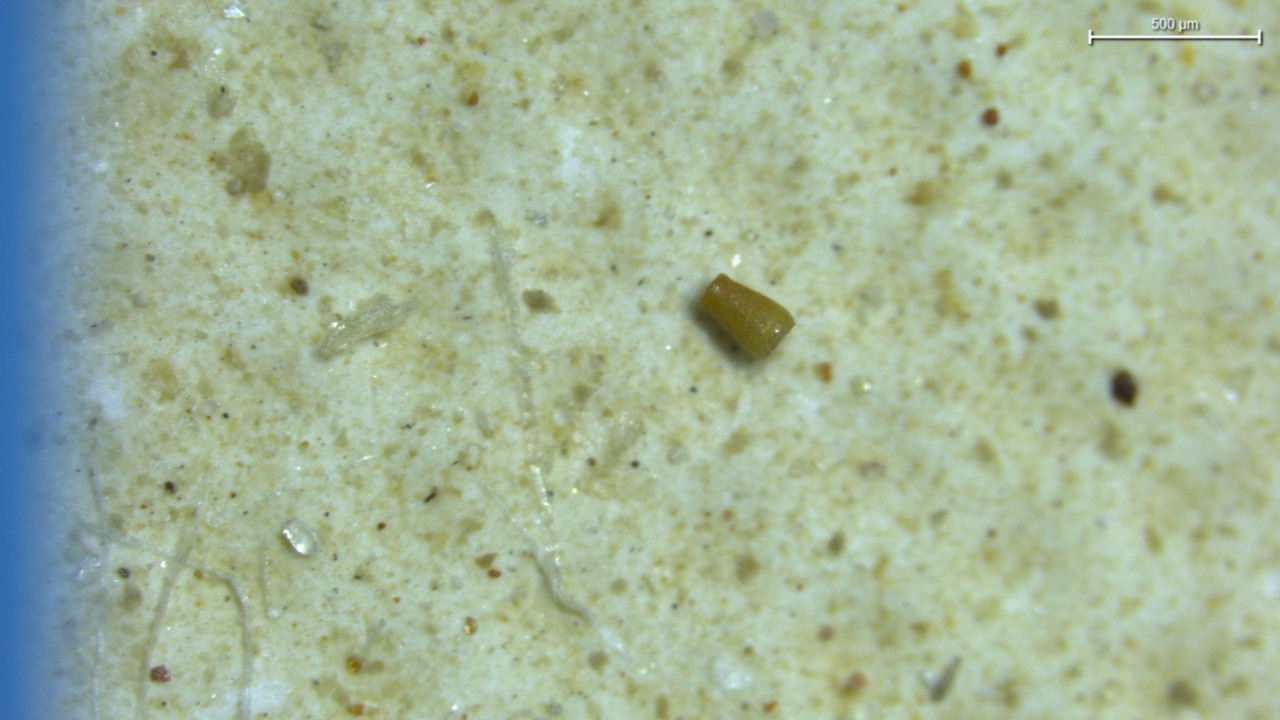microplastic_fragment: (699, 274, 794, 358), (318, 296, 413, 360), (283, 519, 318, 555)
